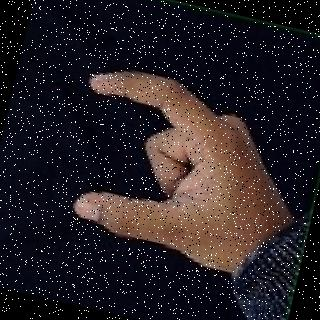U: (54, 61, 307, 272)
